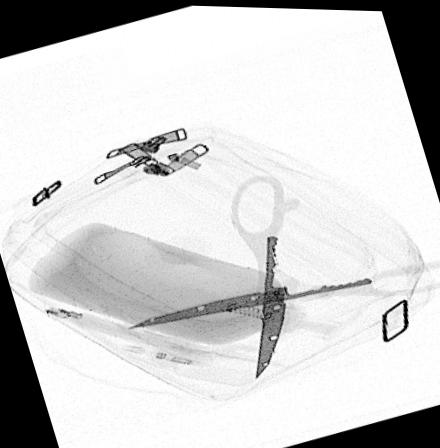Scissors: (121, 172, 440, 376)
